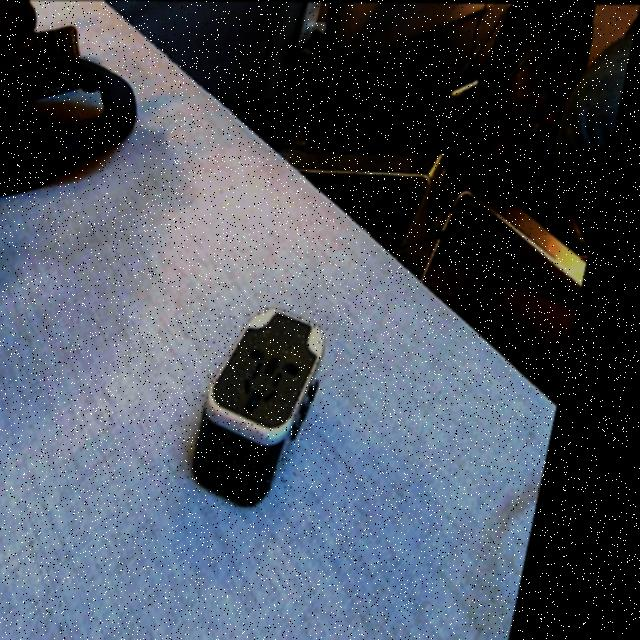adapter: (202, 305, 349, 506)
